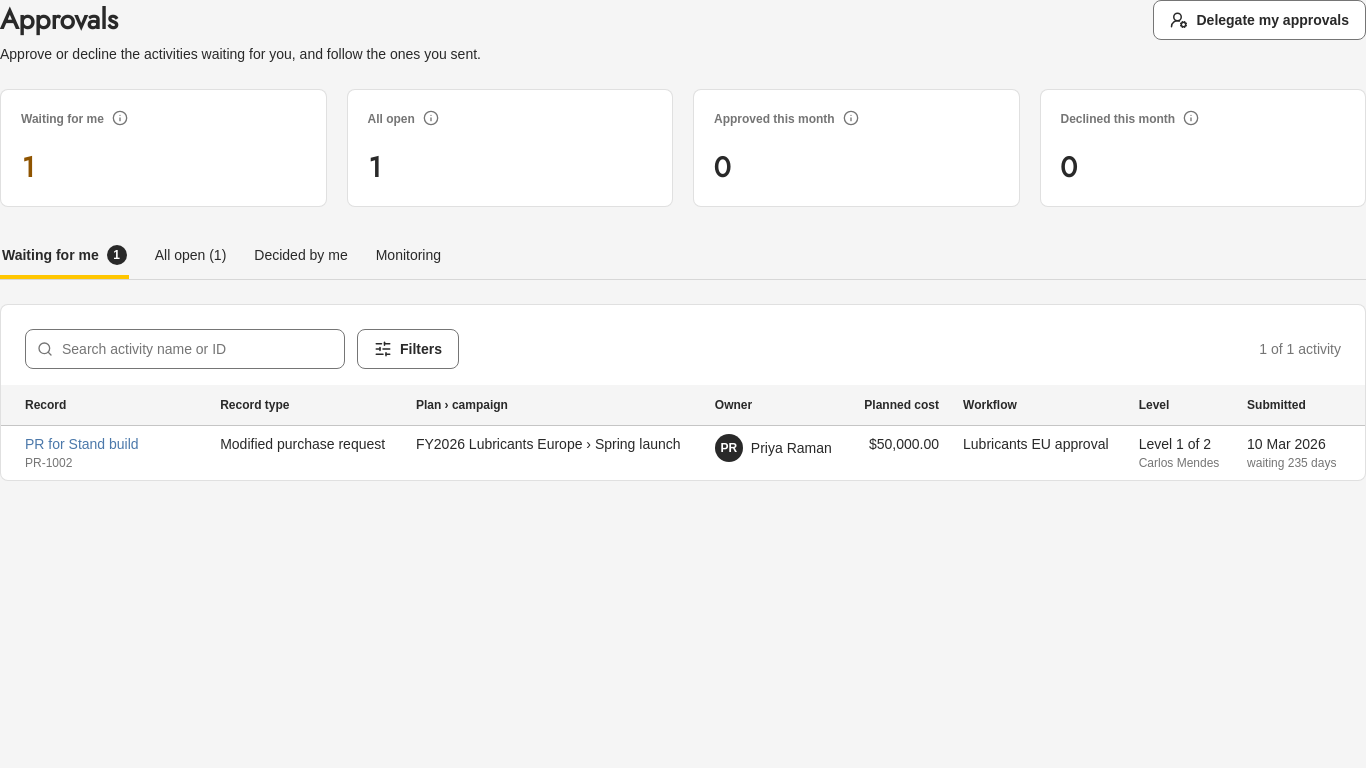
Test: 032 FR-029: PR in the approvals inbox › 032 FR-029: opens this preview, not the activity one, for an inbox row of a purchase-request kind
Click the button "PR for Stand build". click: (82, 444)
box: [25,434,139,454]
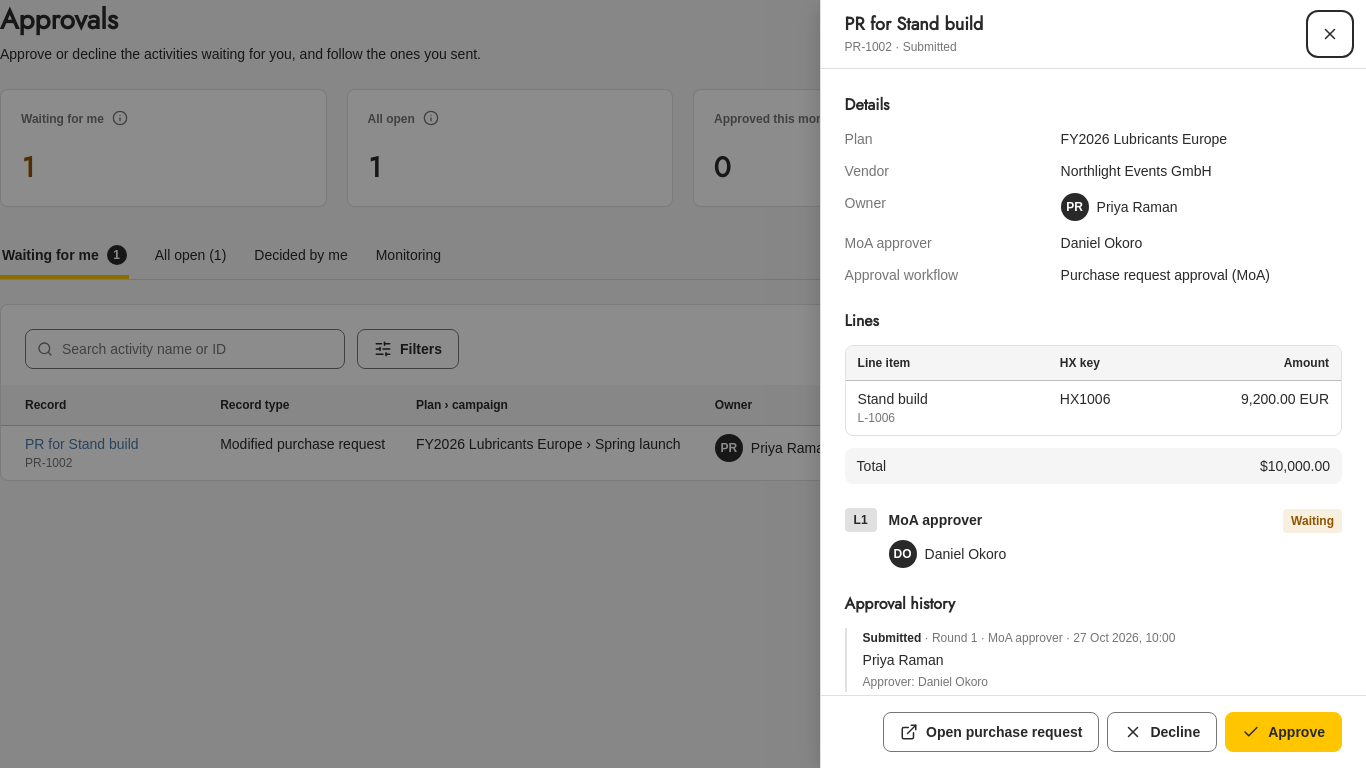
Now the link "Open purchase request" is shown, box [883,712,1099,752]
